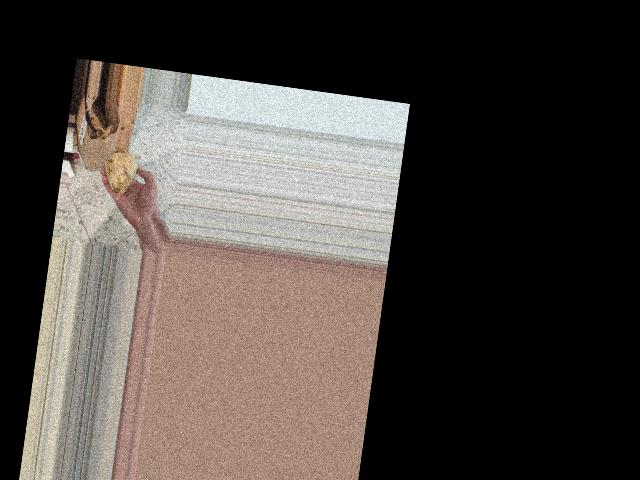onion: (99, 147, 141, 200)
